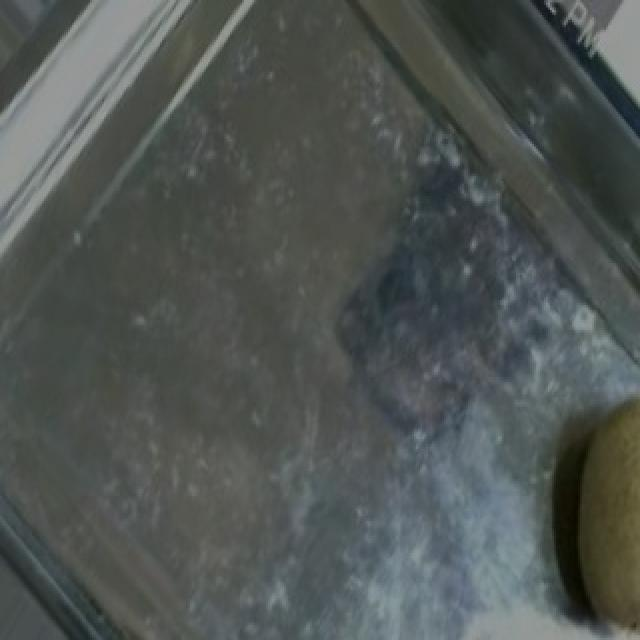Fruit: (518, 372, 640, 640)
